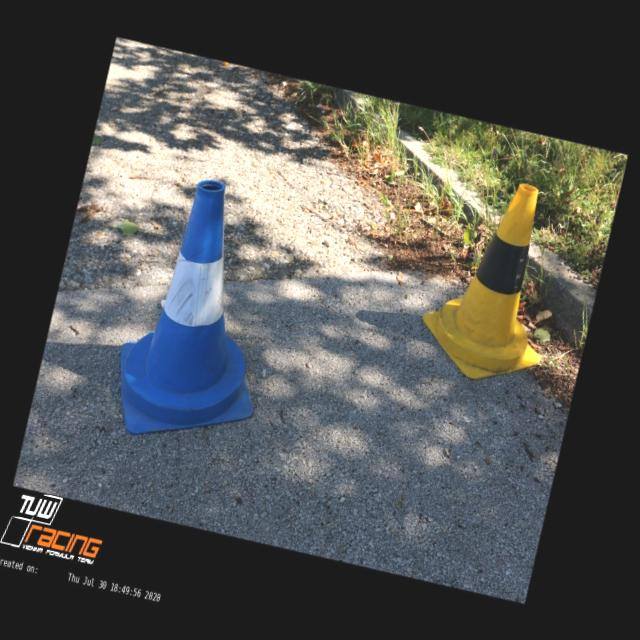blue_cone: (103, 168, 301, 458)
yellow_cone: (412, 167, 577, 391)
